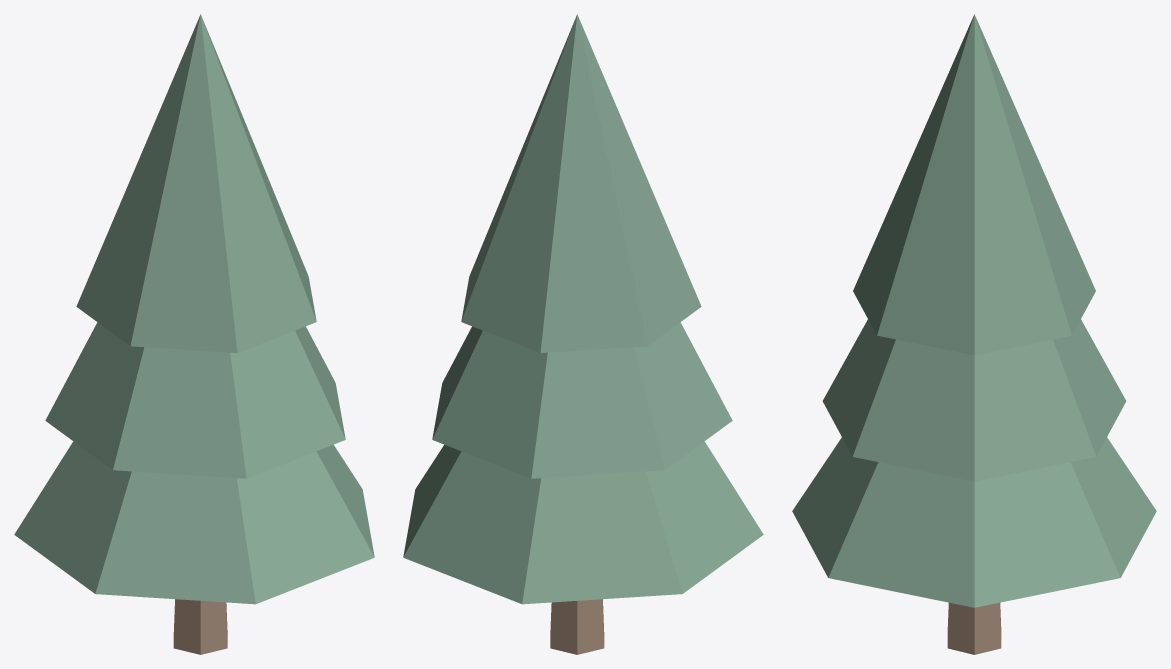
The model's file is tree-pine.glb.
The picture shows the model from 3 angles, left to right: view 1: azimuth 30°, elevation 25°; view 2: azimuth 150°, elevation 25°; view 3: azimuth 270°, elevation 25°; orthographic projection.
Parts seen in each view (by area): view 1: tree-pine; view 2: tree-pine; view 3: tree-pine.
Boxes of the visible parts, x1,y1,x2,y2 form: tree-pine: (14,14,374,654); tree-pine: (403,14,763,654); tree-pine: (792,14,1156,654).
Size of the model in its own units: 6.16 by 12 by 6.32.
